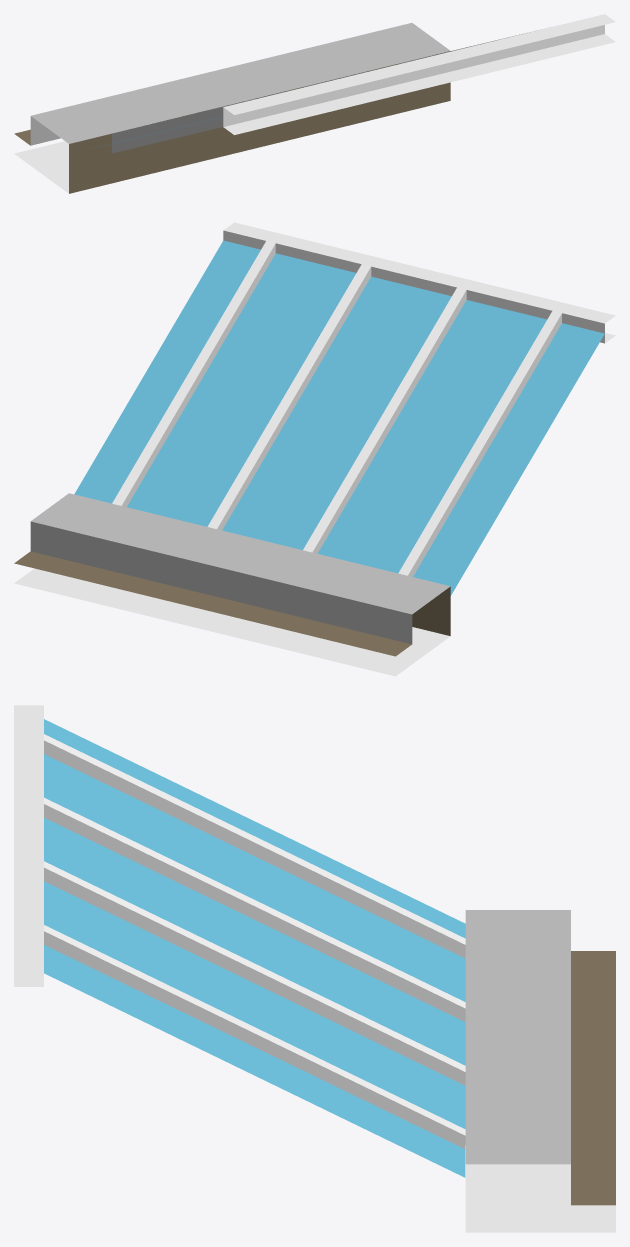
The model's file is SM_Window_Roof_400.FBX.
3 renders of one model, top to bottom at view 1: azimuth 30°, elevation 25°; view 2: azimuth 150°, elevation 25°; view 3: azimuth 270°, elevation 25°, orthographic. The views are drawn at different scales.
Visible parts, largest first — view 1: SM_Window_Roof_400; view 2: SM_Window_Roof_400; view 3: SM_Window_Roof_400.
Part boxes in pixels (bbox=[...]): SM_Window_Roof_400: bbox=[14, 14, 615, 193]; SM_Window_Roof_400: bbox=[14, 222, 615, 676]; SM_Window_Roof_400: bbox=[14, 705, 615, 1232].
Bounding box in the file's own units: 400 × 400 × 200.
